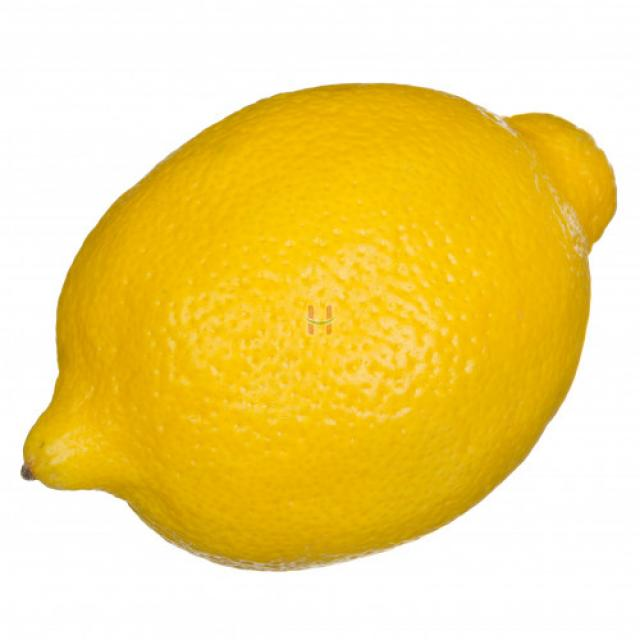lemon: (16, 80, 614, 567)
